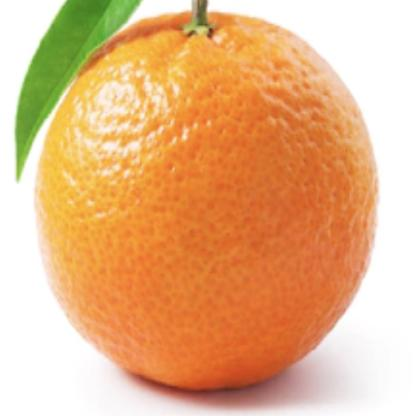fresh: (38, 7, 378, 386)
